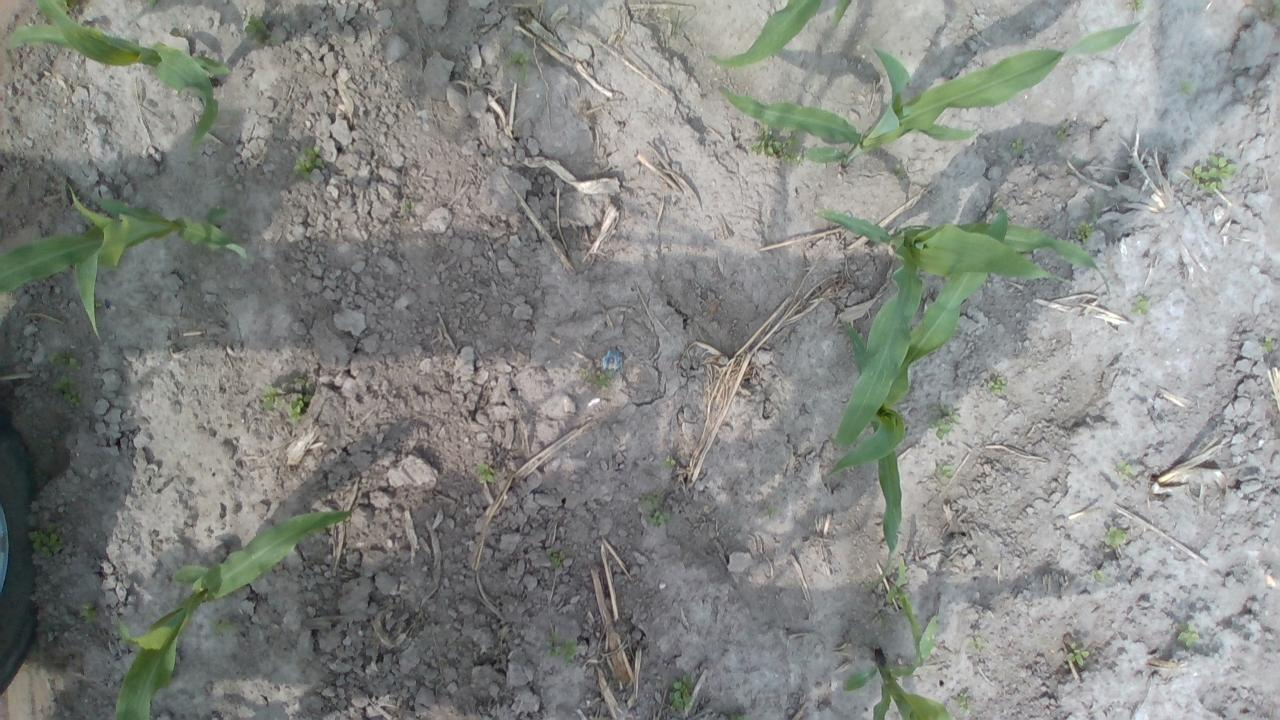Maize: (822, 210, 1014, 585), (716, 22, 1142, 169), (112, 506, 356, 720), (0, 186, 252, 344), (7, 2, 233, 154), (818, 208, 1112, 296), (838, 613, 956, 720), (706, 1, 856, 69)
Weeds: (31, 577, 94, 642), (52, 350, 86, 414), (259, 385, 306, 423), (1196, 154, 1238, 190), (749, 128, 792, 160), (25, 532, 62, 558), (546, 638, 578, 668), (932, 406, 961, 439), (668, 678, 691, 714), (293, 147, 319, 173), (246, 19, 274, 43), (1180, 622, 1202, 650), (1106, 527, 1128, 551), (510, 52, 528, 80), (213, 619, 237, 638), (588, 371, 614, 388), (987, 374, 1007, 396), (1132, 296, 1152, 314), (1070, 647, 1088, 666), (1078, 222, 1092, 244), (648, 509, 668, 524), (936, 462, 954, 478), (1114, 462, 1130, 476), (478, 463, 490, 481), (1010, 142, 1025, 155), (400, 198, 412, 212), (1262, 339, 1274, 353), (1054, 128, 1066, 140), (1273, 2, 1280, 20), (550, 554, 560, 563)
